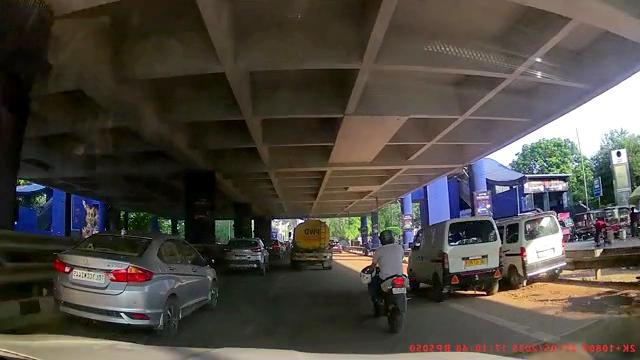motorcycle_with_helmet: (363, 228, 409, 333)
